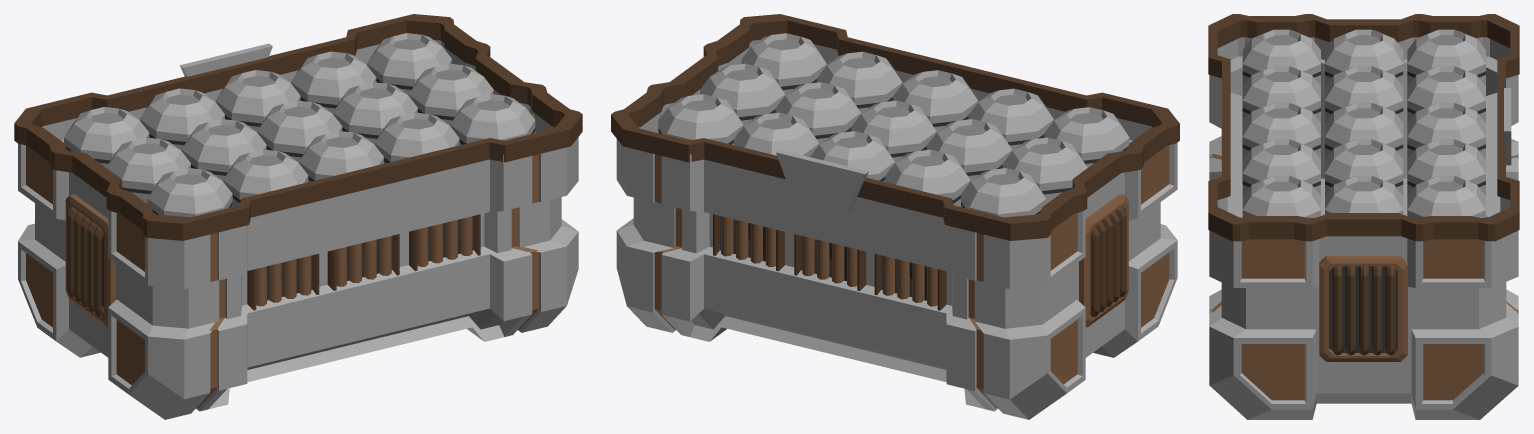
File: ChestBottom.fbx
3 views of the same model, side by side, from view 1: azimuth 30°, elevation 25°; view 2: azimuth 150°, elevation 25°; view 3: azimuth 270°, elevation 25° (orthographic).
Parts seen in each view (by area): view 1: Props_ContainerFull.002; view 2: Props_ContainerFull.002; view 3: Props_ContainerFull.002.
Boxes of the visible parts, x1,y1,x2,y2 form: Props_ContainerFull.002: (14, 14, 582, 419); Props_ContainerFull.002: (611, 14, 1179, 419); Props_ContainerFull.002: (1208, 14, 1519, 419).
Size of the model in its own units: 1.2 by 0.5824 by 0.7517.
